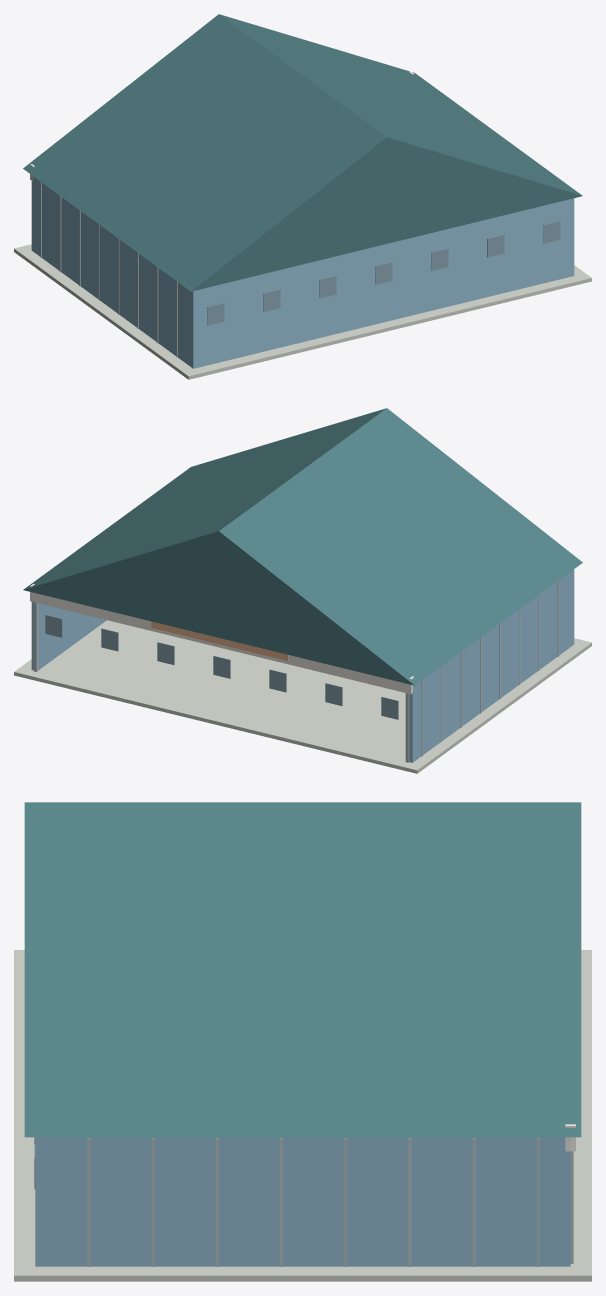
File: hangar_large.glb
The picture shows the model from 3 angles, top to bottom: view 1: azimuth 30°, elevation 25°; view 2: azimuth 150°, elevation 25°; view 3: azimuth 270°, elevation 25°; orthographic projection. The views are drawn at different scales.
Visible parts, largest first — view 1: hangar_large__pitched_roof, hangar_large__back_wall, hangar_large__side_wall, hangar_large__foundation; view 2: hangar_large__pitched_roof, hangar_large__foundation, hangar_large__side_wall, hangar_large__door_header, hangar_large__side_wall.001, hangar_large__hangar_sign; view 3: hangar_large__pitched_roof, hangar_large__side_wall.001, hangar_large__foundation, hangar_large__back_wall.
Part boxes in pixels (x1,y1,x2,y2): hangar_large__pitched_roof: [23, 14, 582, 291]; hangar_large__back_wall: [190, 198, 574, 368]; hangar_large__side_wall: [31, 176, 198, 368]; hangar_large__foundation: [14, 244, 591, 379]; hangar_large__pitched_roof: [23, 408, 582, 685]; hangar_large__foundation: [14, 620, 591, 773]; hangar_large__side_wall: [409, 571, 574, 762]; hangar_large__door_header: [30, 584, 414, 694]; hangar_large__side_wall.001: [31, 602, 106, 670]; hangar_large__hangar_sign: [151, 621, 288, 661]; hangar_large__pitched_roof: [24, 802, 581, 1137]; hangar_large__side_wall.001: [35, 1137, 570, 1266]; hangar_large__foundation: [14, 950, 591, 1281]; hangar_large__back_wall: [35, 1137, 43, 1266].
Bounding box in the file's own units: 36 × 16.3 × 27.
